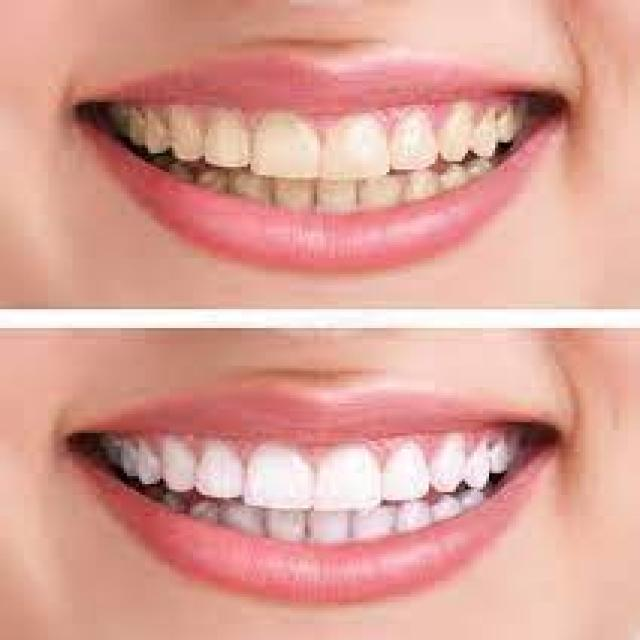tooth: (250, 446, 308, 508), (314, 457, 377, 508), (323, 129, 386, 178), (257, 129, 317, 172), (202, 121, 251, 169), (380, 447, 423, 498), (200, 444, 238, 494), (392, 124, 432, 166), (166, 438, 193, 500), (438, 110, 468, 159), (317, 183, 353, 220), (432, 446, 459, 495), (169, 113, 196, 156), (492, 433, 513, 484), (462, 441, 483, 492), (275, 183, 311, 212), (354, 514, 389, 543), (311, 519, 344, 546), (474, 110, 492, 159), (362, 186, 402, 207), (269, 514, 302, 538), (139, 446, 157, 487), (224, 508, 254, 532), (398, 506, 432, 527), (410, 175, 438, 199), (236, 175, 268, 196), (115, 438, 130, 479), (514, 105, 534, 134), (148, 116, 163, 153), (447, 170, 477, 186), (130, 108, 142, 145), (190, 508, 214, 524), (438, 503, 462, 516), (498, 113, 507, 145), (208, 178, 226, 194)
